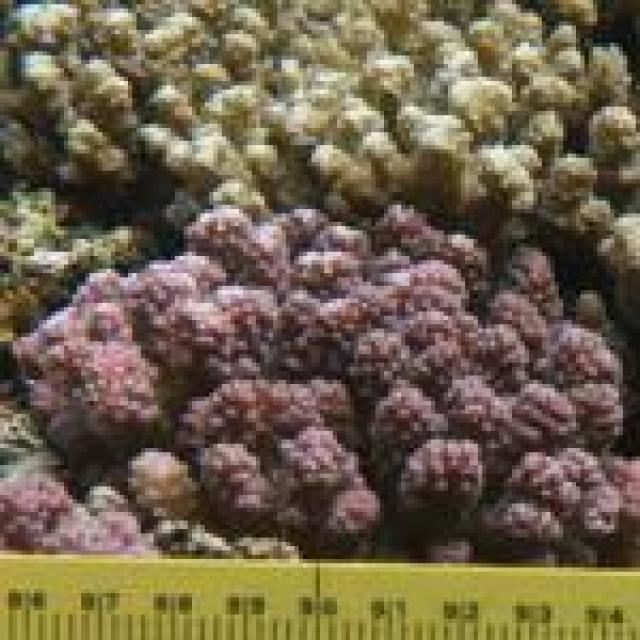Healthy Coral: (0, 194, 640, 550), (0, 0, 640, 214)
